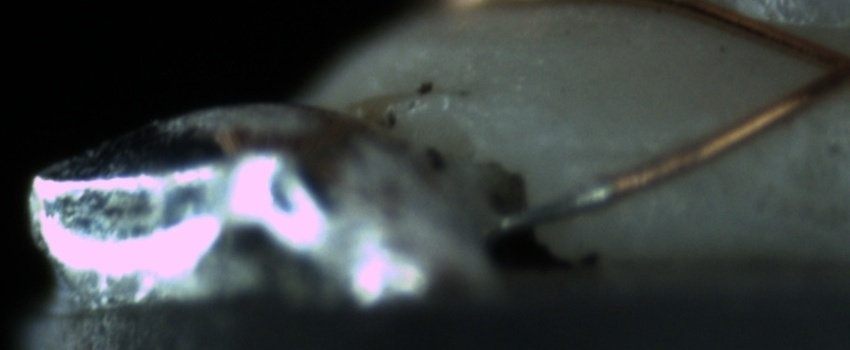CL: (798, 35, 850, 93)
DL: (542, 123, 676, 186)
TS: (491, 180, 616, 232)
